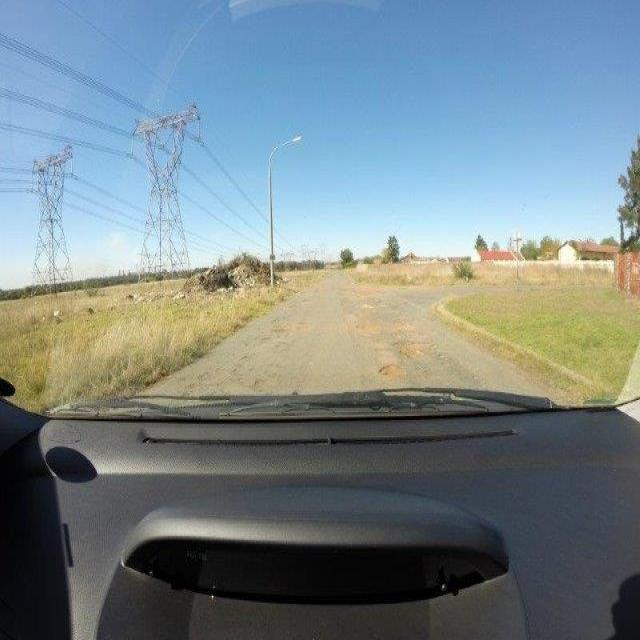lubang: (392, 337, 447, 363), (370, 361, 411, 380), (268, 325, 294, 344), (251, 377, 272, 393)
